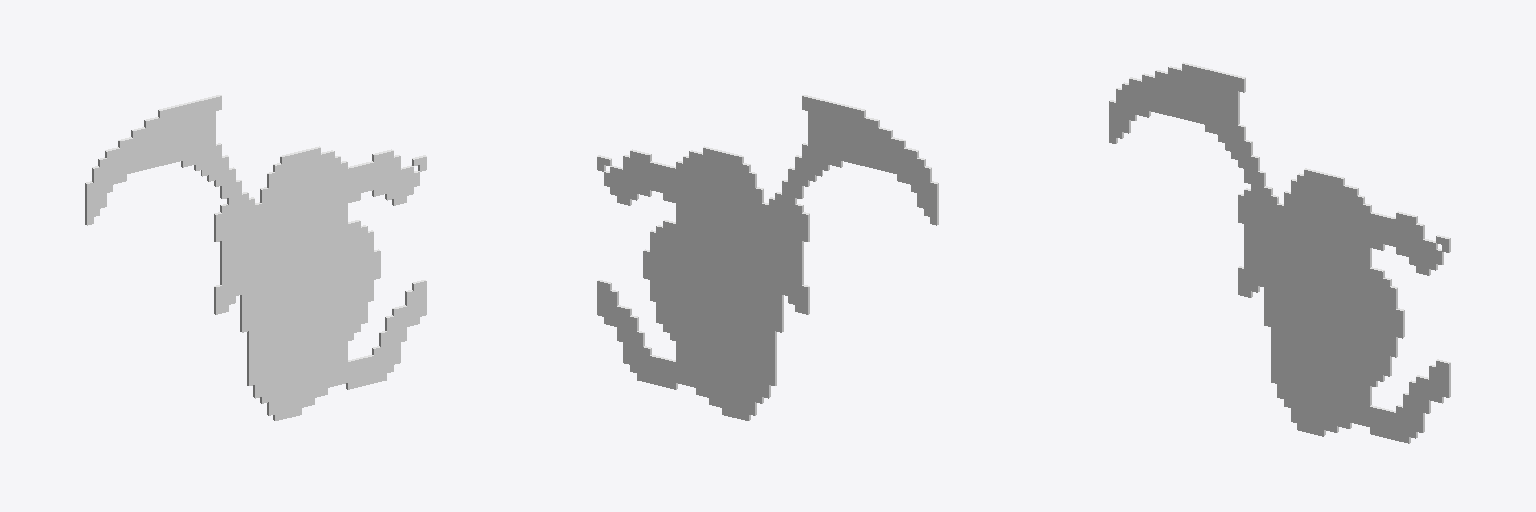
File: Fantasma2-0-Fantasma2.obj
3 renders of one model, left to right at view 1: azimuth 30°, elevation 25°; view 2: azimuth 150°, elevation 25°; view 3: azimuth 330°, elevation 25°, orthographic.
Parts seen in each view (by area): view 1: Fantasma2; view 2: Fantasma2; view 3: Fantasma2.
Part boxes in pixels (x1,y1,x2,y2): Fantasma2: (85, 95, 426, 420); Fantasma2: (597, 95, 938, 420); Fantasma2: (1109, 62, 1450, 443).
Bounding box in the file's own units: 10.3 × 9.8 × 0.1.